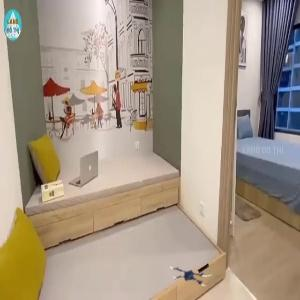drone: (171, 251, 215, 295)
